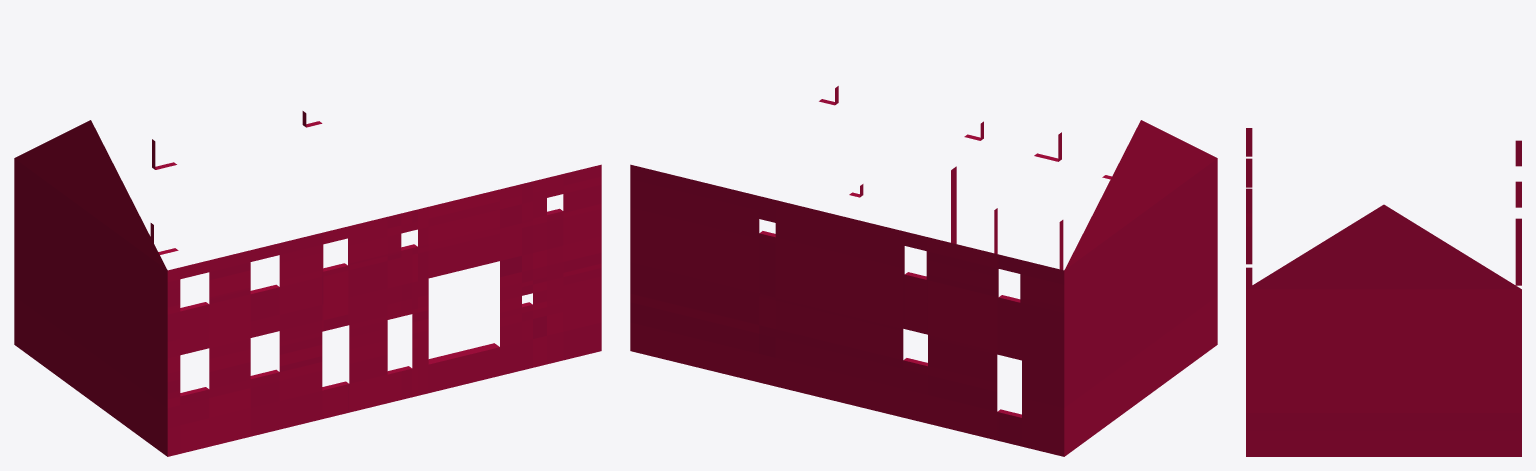
File: SM_Bld_206_Masonry.glb
3 renders of one model, left to right at view 1: azimuth 30°, elevation 25°; view 2: azimuth 150°, elevation 25°; view 3: azimuth 270°, elevation 25°, orthographic. The views are drawn at different scales.
Visible parts, largest first — view 1: SM_Bld_206_Masonry; view 2: SM_Bld_206_Masonry; view 3: SM_Bld_206_Masonry.
Boxes of the visible parts, box(x1,y1,x2,y2) form: SM_Bld_206_Masonry: box(14, 111, 601, 456); SM_Bld_206_Masonry: box(630, 86, 1217, 456); SM_Bld_206_Masonry: box(1246, 128, 1521, 456).
Bounding box in the file's own units: 15.83 × 9.79 × 9.69.
